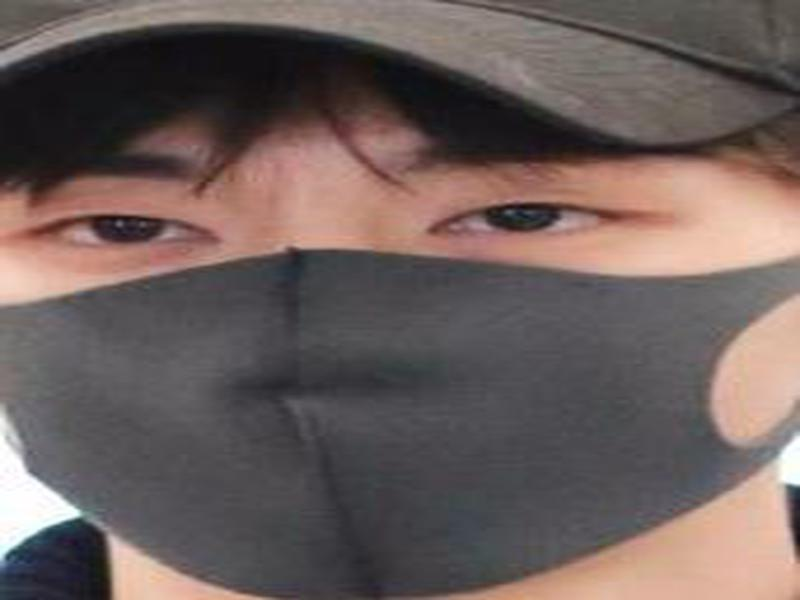with_mask: (1, 44, 800, 600)
